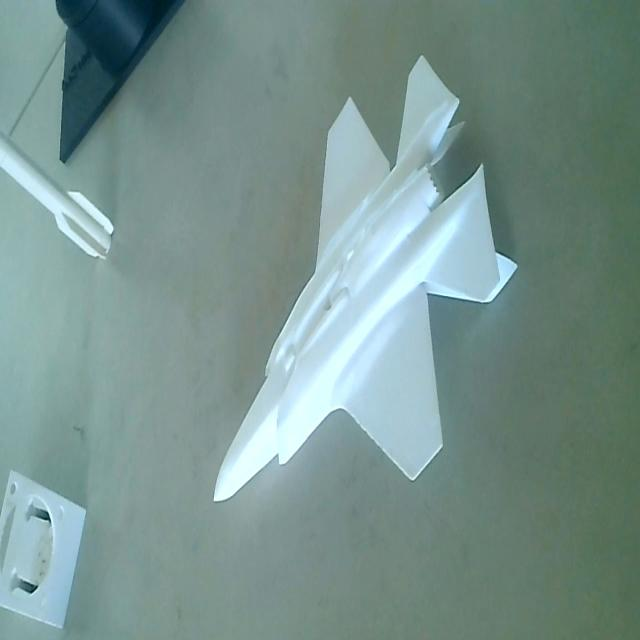Jet: (212, 49, 522, 525)
Rocket: (0, 128, 127, 270)
